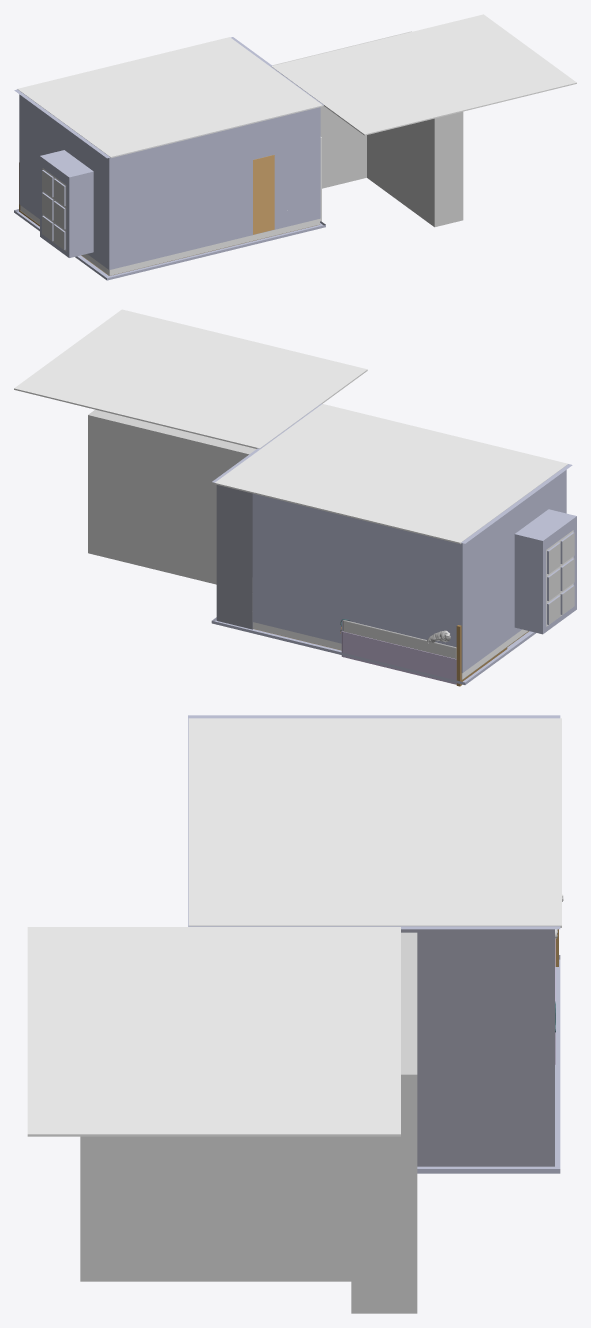
File: TestPhibsRoom.fbx
3 renders of one model, top to bottom at view 1: azimuth 30°, elevation 25°; view 2: azimuth 150°, elevation 25°; view 3: azimuth 270°, elevation 25°, orthographic. The views are drawn at different scales.
Parts seen in each view (by area): view 1: Cube, Plane.003, Plane.002, Cube.013, Cube.014, Cube.012, Cube.002; view 2: Cube, Plane.003, Plane.002, Cube.014, Wardrobe, Bed, Cube.012; view 3: Plane.003, Plane.002, Cube.013, Wardrobe, Cube.014, Cube.
Boxes of the visible parts, x1,y1,x2,y2 form: Cube: [14, 37, 325, 280]; Plane.003: [271, 14, 576, 135]; Plane.002: [17, 37, 322, 158]; Cube.013: [367, 111, 463, 227]; Cube.014: [272, 31, 411, 188]; Cube.012: [42, 168, 66, 251]; Cube.002: [253, 155, 274, 234]; Cube: [211, 403, 576, 684]; Plane.003: [14, 309, 367, 448]; Plane.002: [214, 404, 567, 543]; Cube.014: [88, 409, 256, 584]; Wardrobe: [216, 485, 253, 629]; Bed: [341, 620, 507, 686]; Cube.012: [546, 530, 574, 626]; Plane.003: [27, 927, 400, 1136]; Plane.002: [188, 718, 561, 927]; Cube.013: [80, 1015, 416, 1281]; Wardrobe: [401, 929, 554, 1166]; Cube.014: [351, 932, 417, 1313]; Cube: [188, 715, 560, 1173].
Bounding box in the file's own units: 3161 × 842 × 1623.
